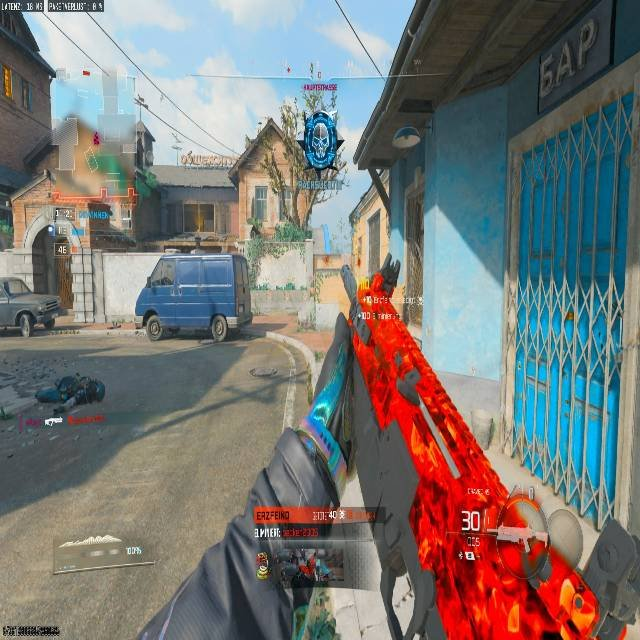head: (495, 496, 551, 583), (91, 379, 106, 401)
